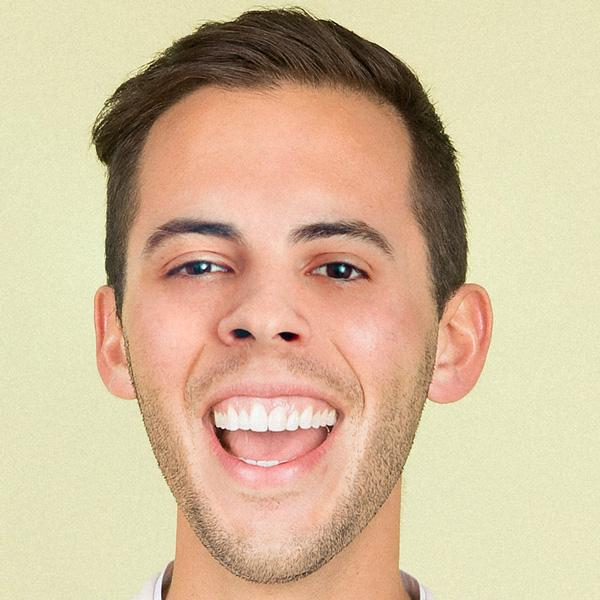Eyes: (155, 242, 238, 295), (296, 245, 378, 292)
